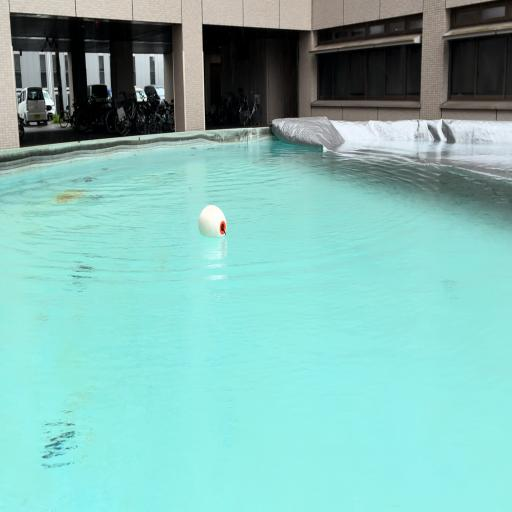white buoy: (198, 205, 227, 238)
